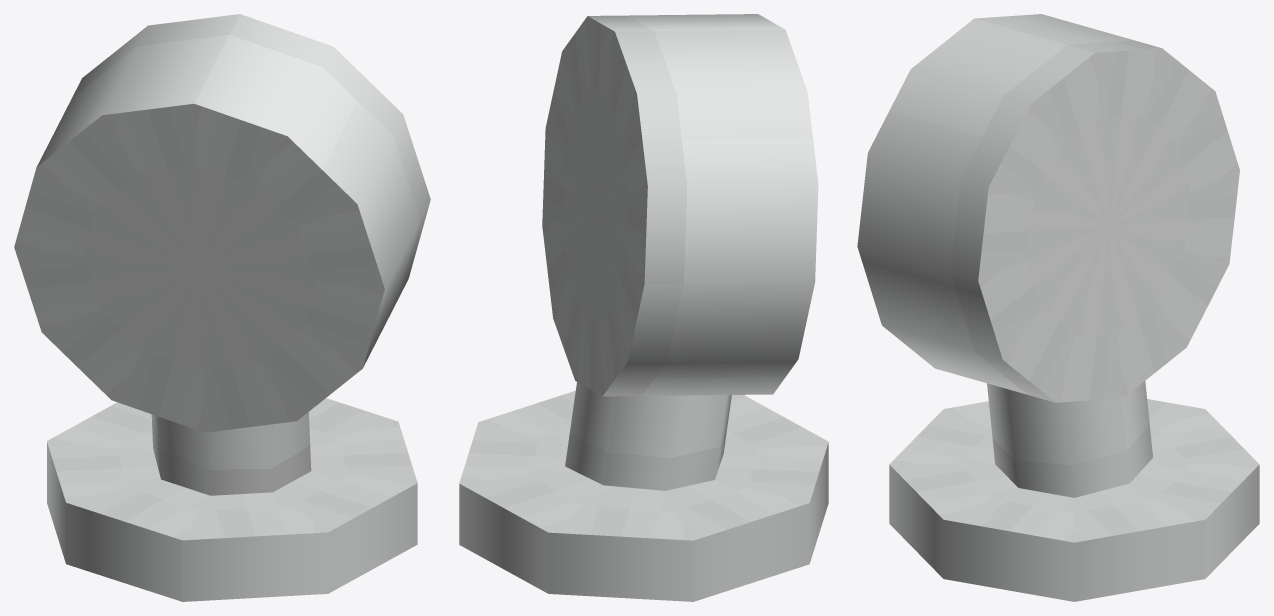
File: trusssignalarm_stub_141.obj
The picture shows the model from 3 angles, left to right: view 1: azimuth 30°, elevation 25°; view 2: azimuth 150°, elevation 25°; view 3: azimuth 270°, elevation 25°; orthographic projection. The views are drawn at different scales.
Visible parts, largest first — view 1: trusssignalarm_stub_141; view 2: trusssignalarm_stub_141; view 3: trusssignalarm_stub_141.
Part boxes in pixels (x1,y1,x2,y2): trusssignalarm_stub_141: [14, 14, 430, 601]; trusssignalarm_stub_141: [459, 14, 828, 601]; trusssignalarm_stub_141: [857, 14, 1259, 601].
Bounding box in the file's own units: 0.3802 × 0.5002 × 0.3802.
